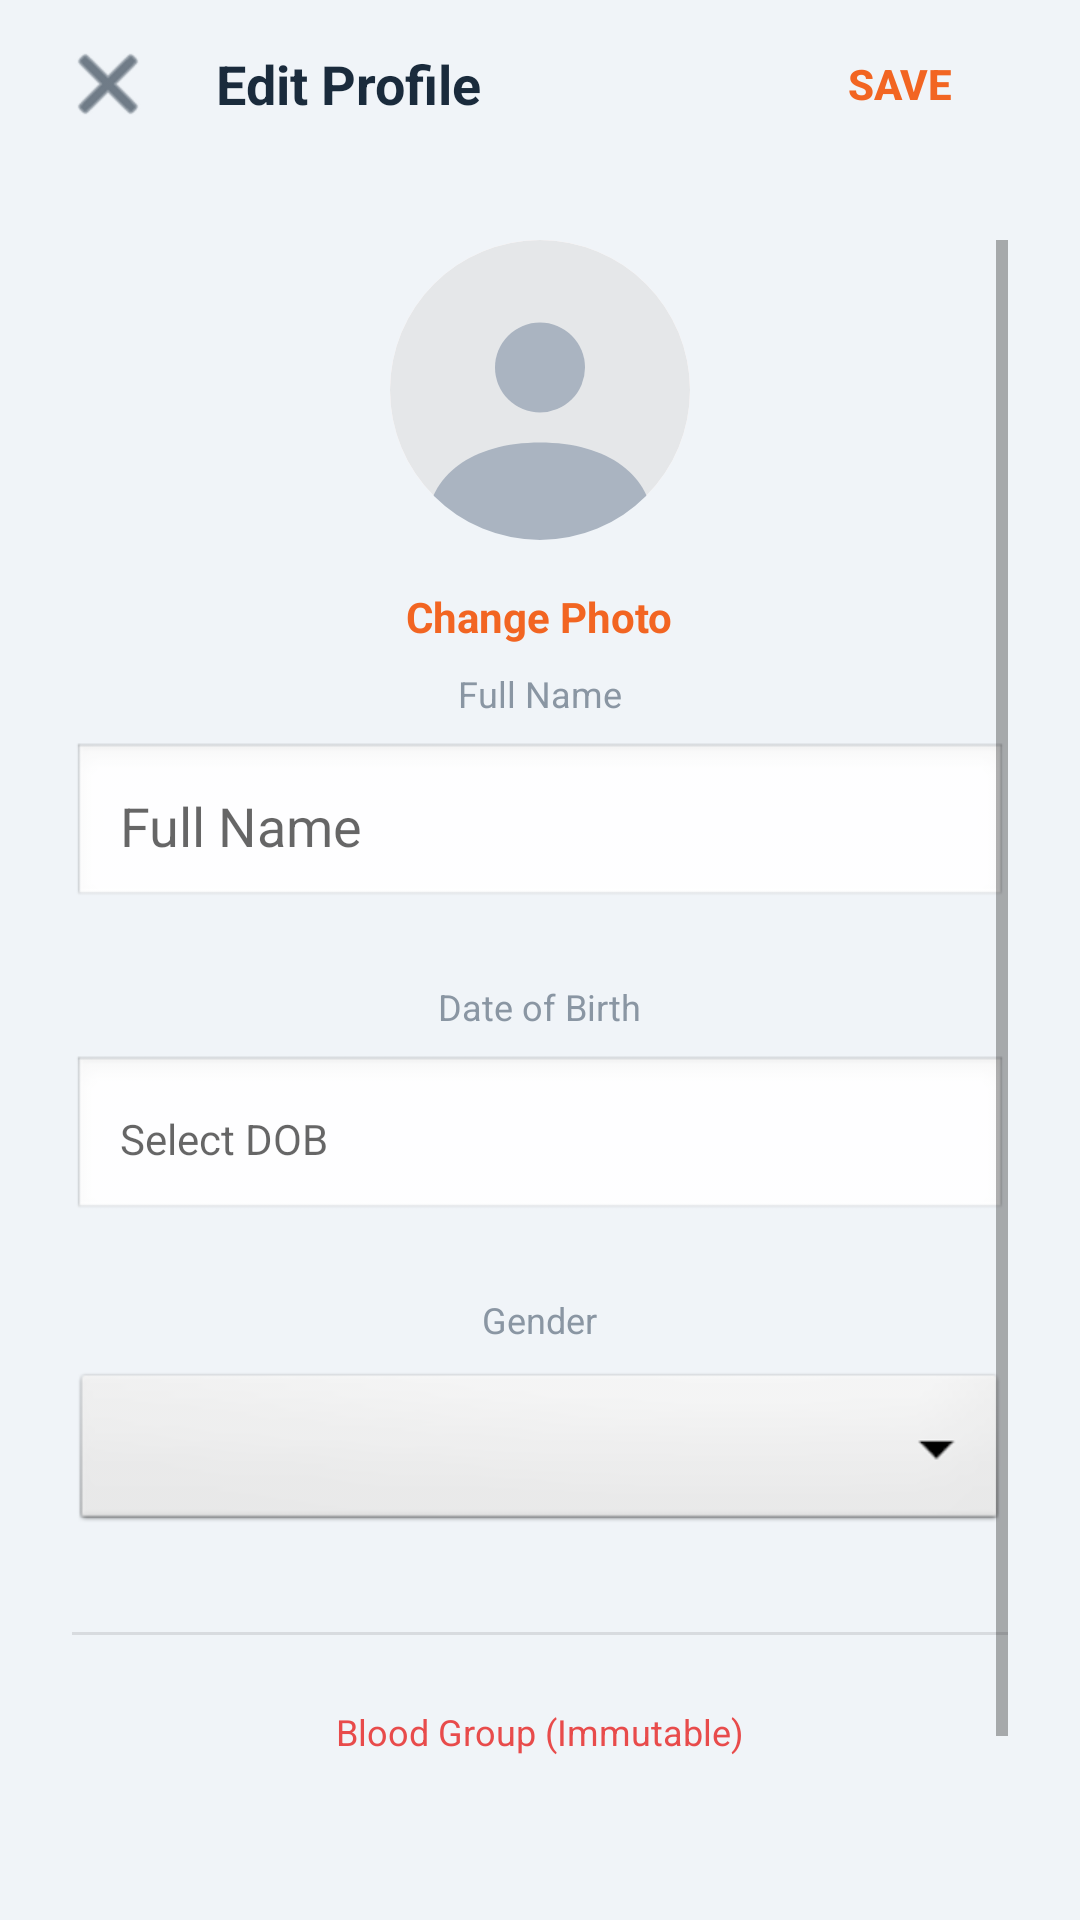

Locate icon controls on the screen. Image size 1080*1920, boxes as (x1, y1, x2, y2).
blank profile: (390, 240, 690, 540)
close clear cancel: (78, 54, 138, 114)
